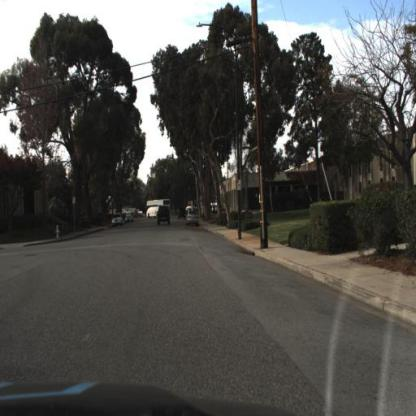car: (157, 206, 173, 229), (187, 209, 201, 224), (113, 213, 125, 229)
pedestrian: (80, 212, 85, 233), (86, 213, 91, 233)
